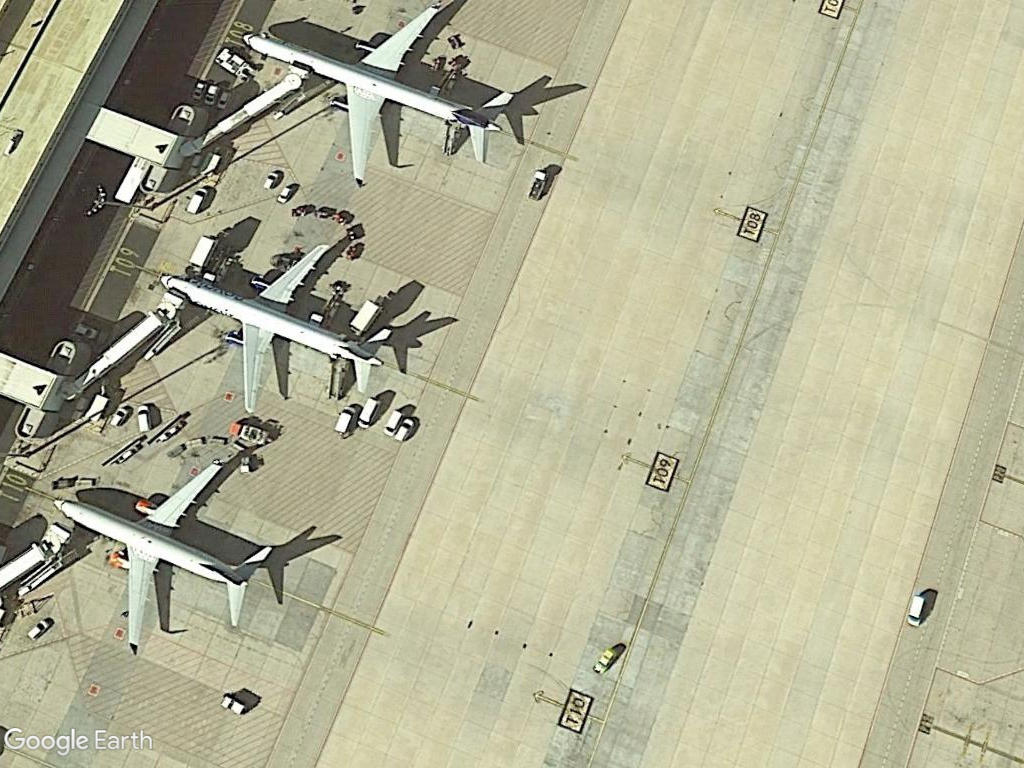airliner: (235, 0, 520, 196), (48, 447, 282, 658), (158, 233, 399, 417)
